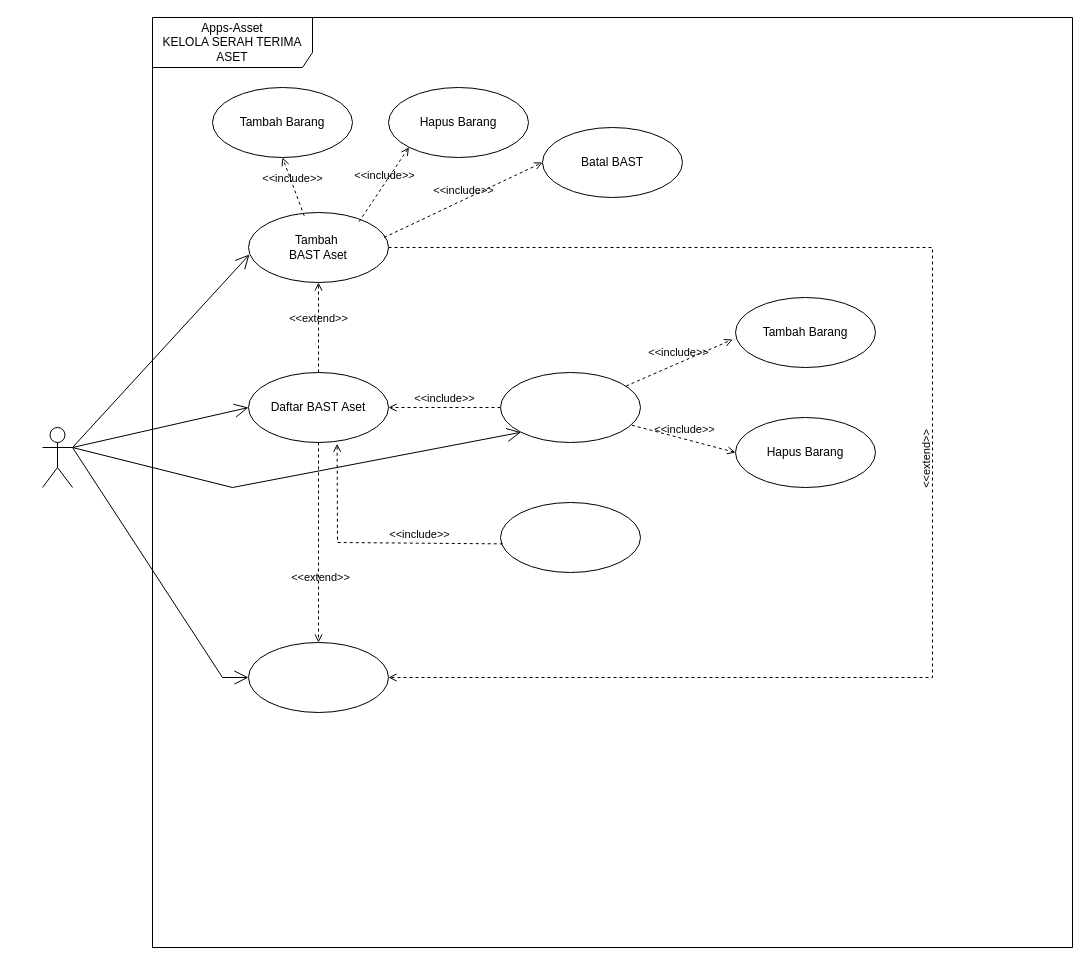
Image size: 1090x965. Some labels were removed from this diagram. The box of each missing label's shape, as (x1, y1, x2, y2) in pixels:
Cetak BAST: (248, 642, 388, 712)
Edit BAST: (500, 372, 640, 442)
Hapus BAST: (500, 502, 640, 572)
Pengelola Aset (Admin): (42, 426, 72, 488)
